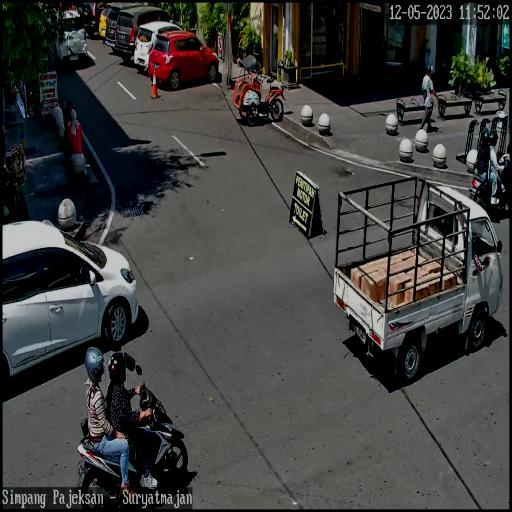mobil: (333, 176, 503, 384), (2, 212, 139, 378), (150, 30, 216, 92), (113, 6, 173, 62), (135, 20, 180, 73)
motor: (76, 382, 188, 510), (466, 151, 512, 221)
